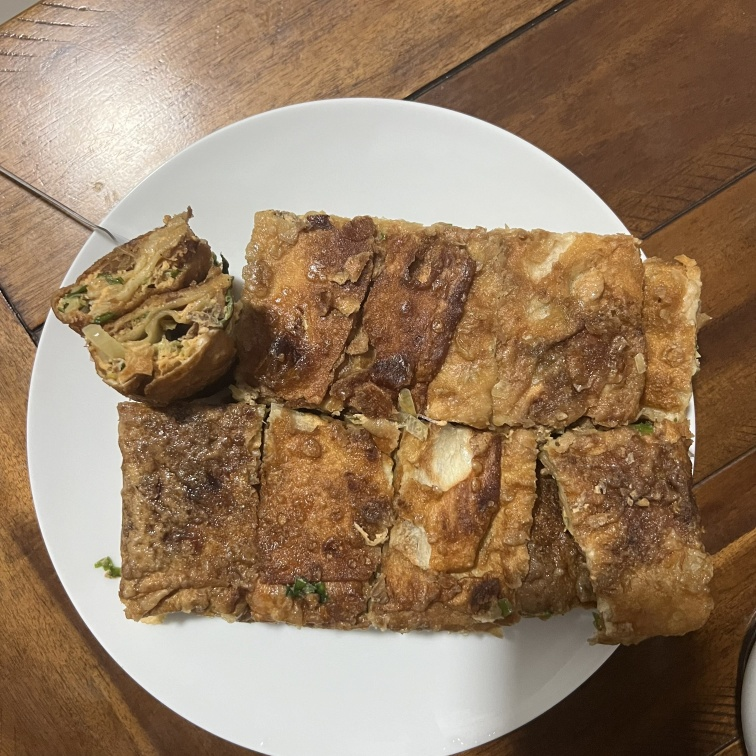martabak telor: (541, 423, 714, 643), (387, 407, 543, 637), (121, 384, 266, 612), (228, 190, 365, 425), (258, 398, 399, 626), (489, 205, 640, 406), (363, 210, 509, 409), (75, 288, 227, 390), (35, 231, 231, 288)
